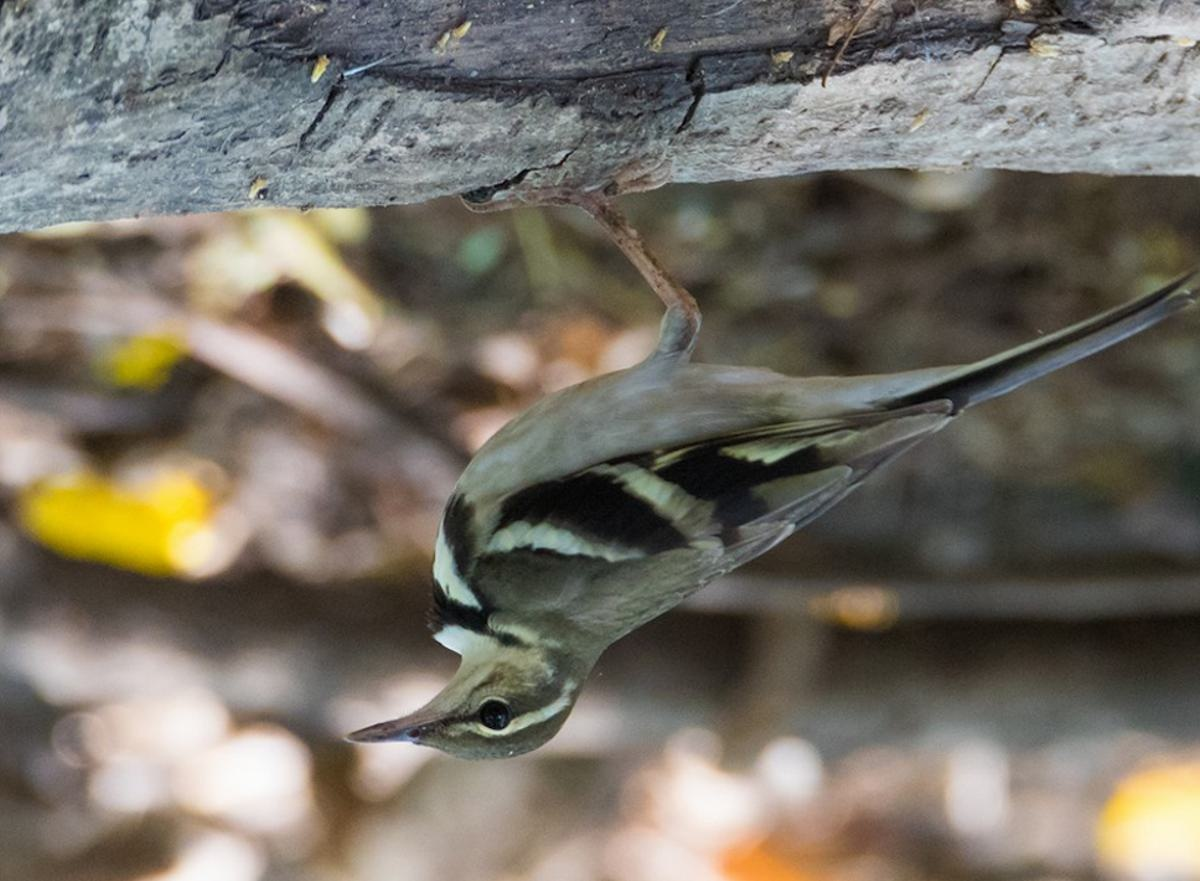wagtail: (341, 268, 1105, 775)
